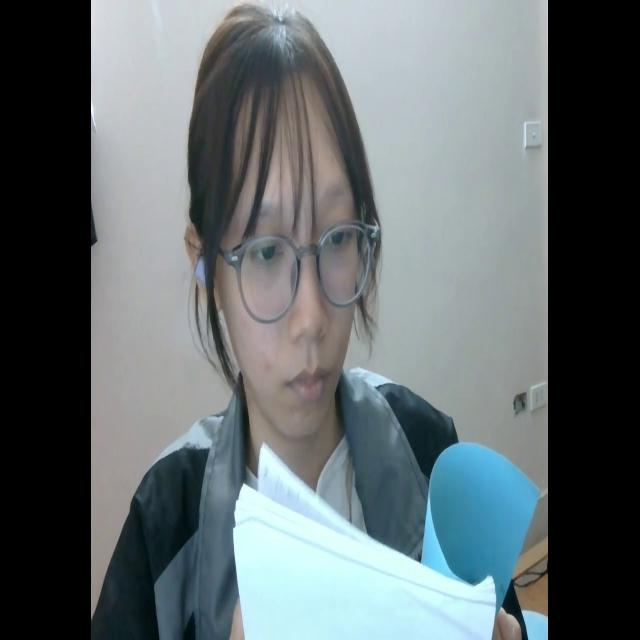book: (230, 432, 539, 640)
student: (99, 6, 528, 640)
